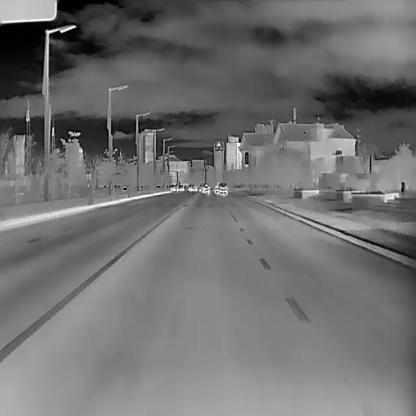car: (217, 182, 227, 195), (213, 184, 222, 194), (202, 183, 210, 193), (189, 183, 197, 192)
